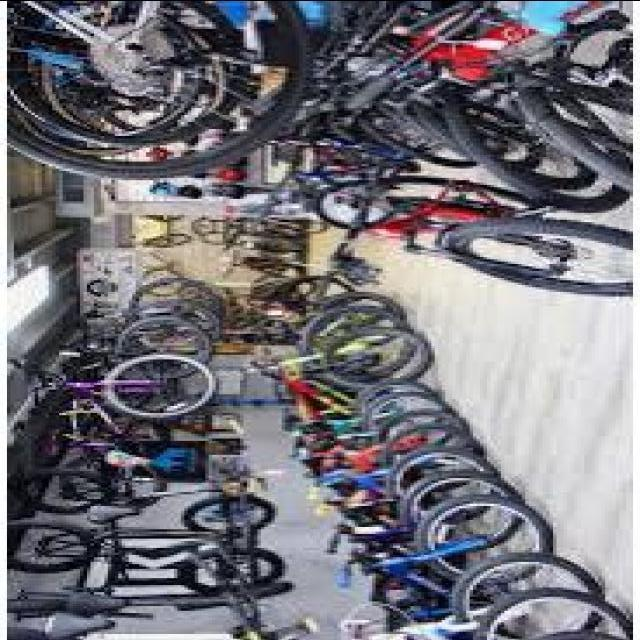bicycle: (314, 173, 634, 301), (335, 496, 551, 610), (335, 555, 623, 640), (252, 323, 433, 425), (25, 352, 220, 431), (325, 452, 492, 531), (300, 404, 464, 478), (293, 380, 446, 443), (471, 592, 631, 640)
